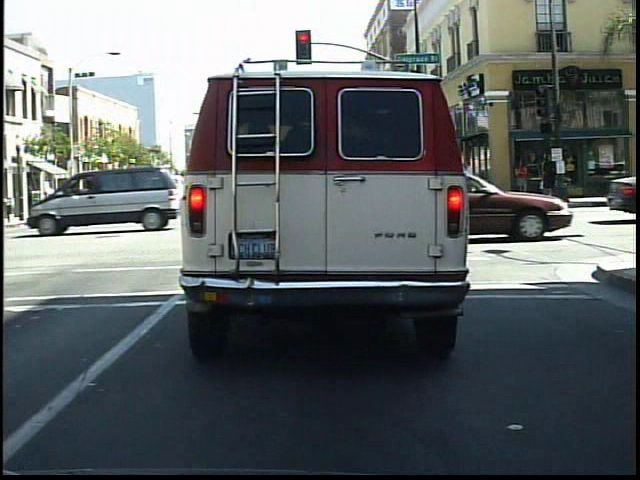person: (538, 152, 562, 202), (512, 156, 534, 195)
